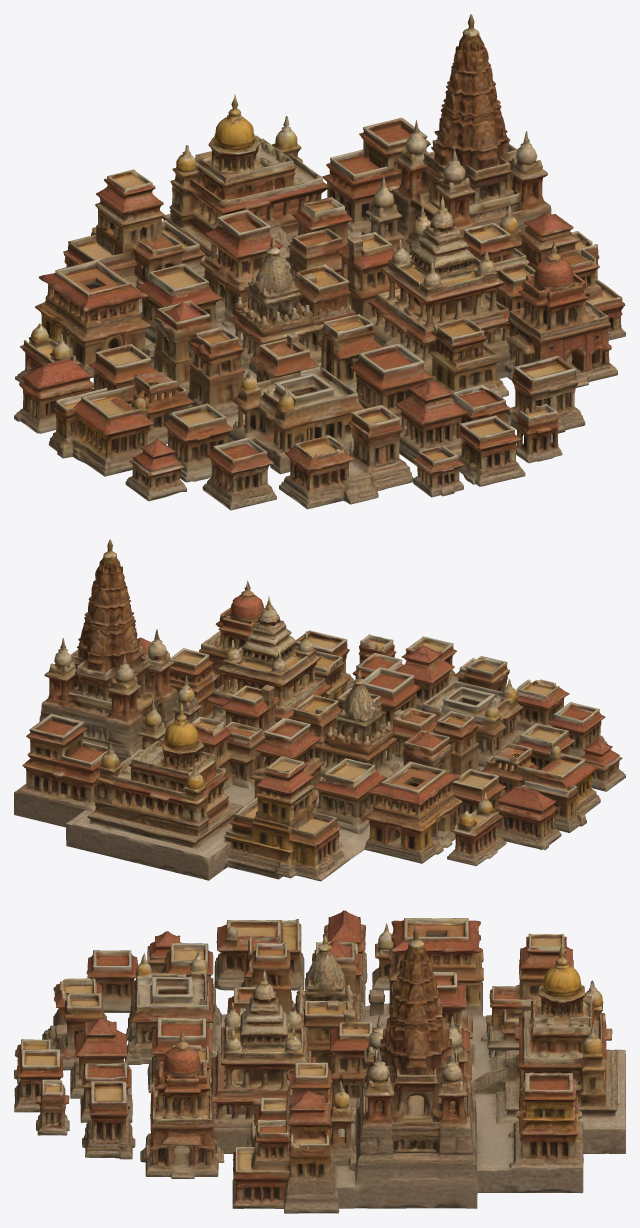
File: Medieval City (South Asian).fbx
3 renders of one model, top to bottom at view 1: azimuth 30°, elevation 25°; view 2: azimuth 150°, elevation 25°; view 3: azimuth 270°, elevation 25°, orthographic. The views are drawn at different scales.
Parts seen in each view (by area): view 1: tripo_node_d82575da; view 2: tripo_node_d82575da; view 3: tripo_node_d82575da.
Boxes of the visible parts, x1,y1,x2,y2 form: tripo_node_d82575da: (14, 14, 625, 510); tripo_node_d82575da: (14, 539, 625, 881); tripo_node_d82575da: (14, 910, 625, 1213).
Size of the model in its own units: 1 by 0.4677 by 0.9995.
